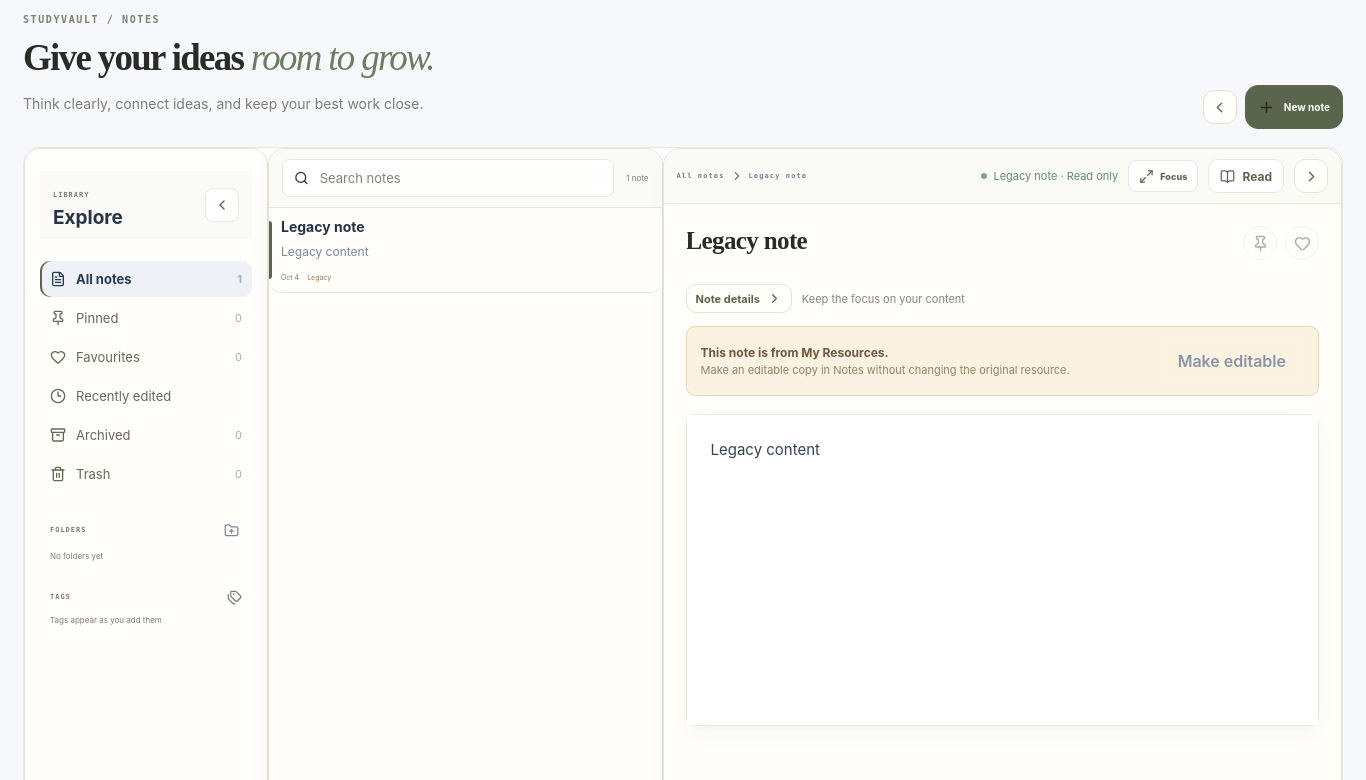
Scenario: Notes and application regression › exposes legacy notes as read-only until explicit conversion
The image size is (1366, 780).
Expected: the text "Legacy note · Read only" is shown, 982,169 -> 1118,183
Click the button "Make editable". click: (1232, 361)
box: 1160,339 -> 1304,383
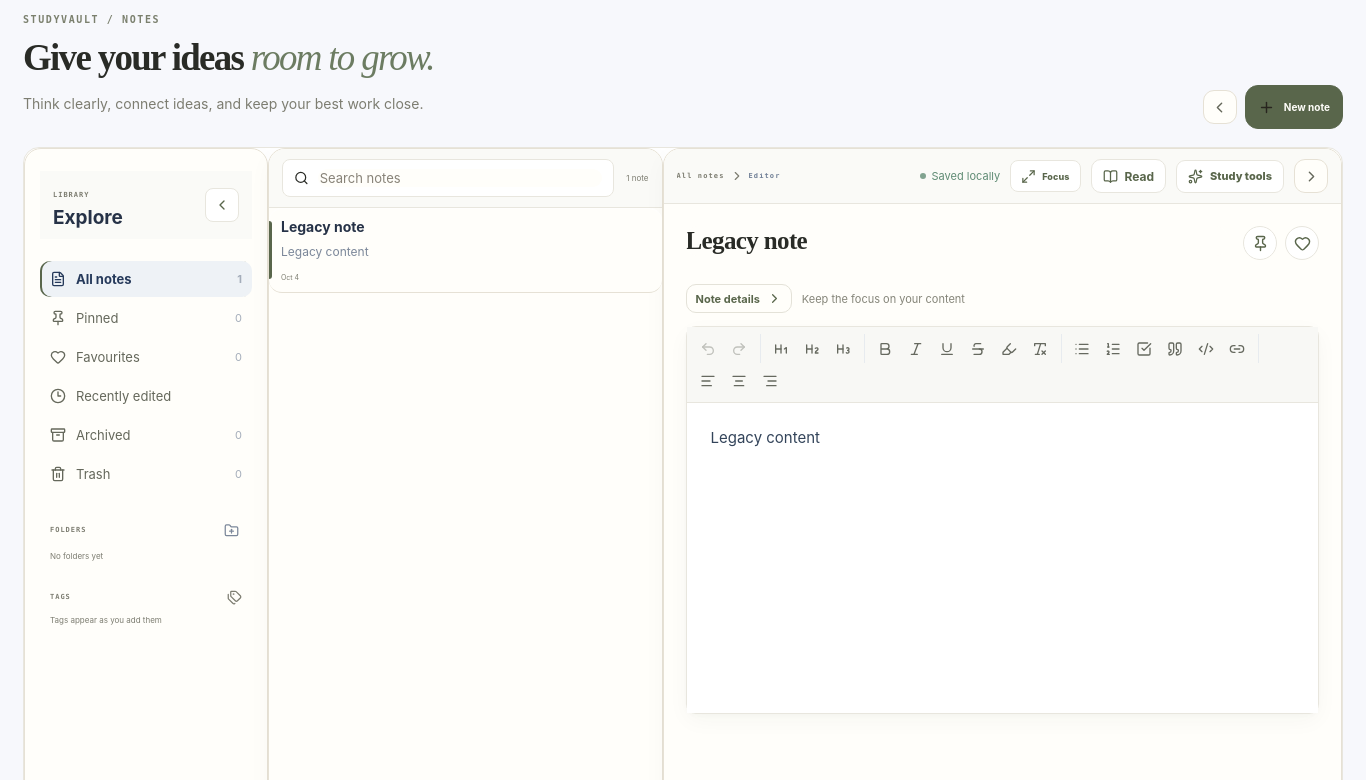
Result: the text "Legacy note · Read only" is gone
